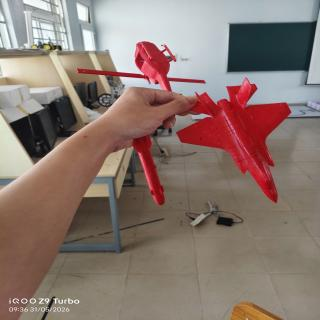Helicopter: (73, 39, 211, 87)
Jet: (176, 77, 290, 204)
Rocket: (130, 133, 167, 206)
